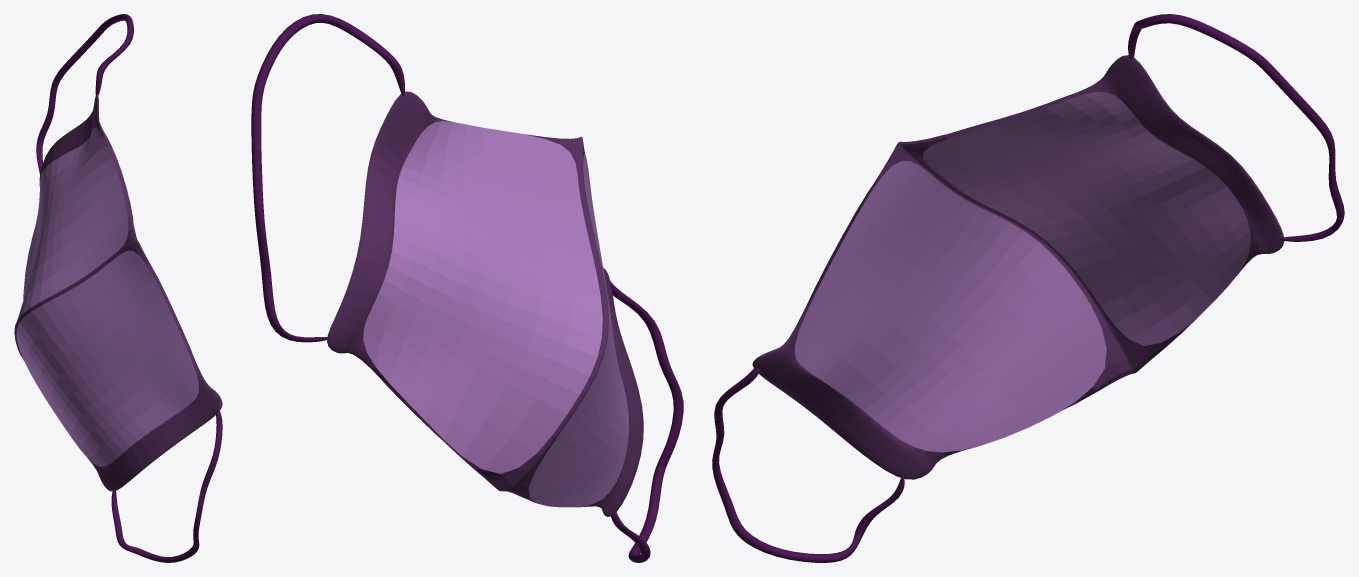
File: máscaraRoxa.fbx
3 views of the same model, side by side, from view 1: azimuth 30°, elevation 25°; view 2: azimuth 150°, elevation 25°; view 3: azimuth 270°, elevation 25° (orthographic). The views are drawn at different scales.
Visible parts, largest first — view 1: MáscaraRoxa; view 2: MáscaraRoxa; view 3: MáscaraRoxa.
Boxes of the visible parts, x1,y1,x2,y2 form: MáscaraRoxa: [14, 14, 222, 562]; MáscaraRoxa: [251, 14, 683, 562]; MáscaraRoxa: [712, 14, 1344, 562].
Size of the model in its own units: 81.27 by 204 by 190.
